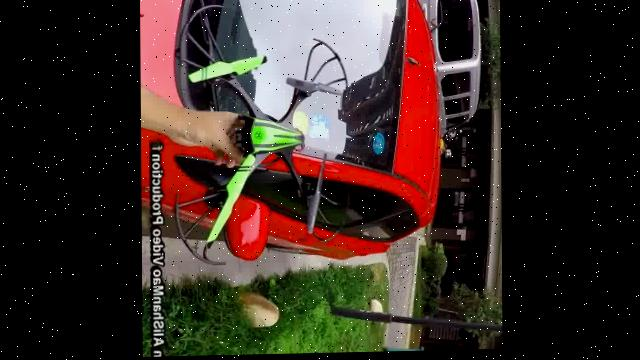drone: (166, 0, 361, 283)
